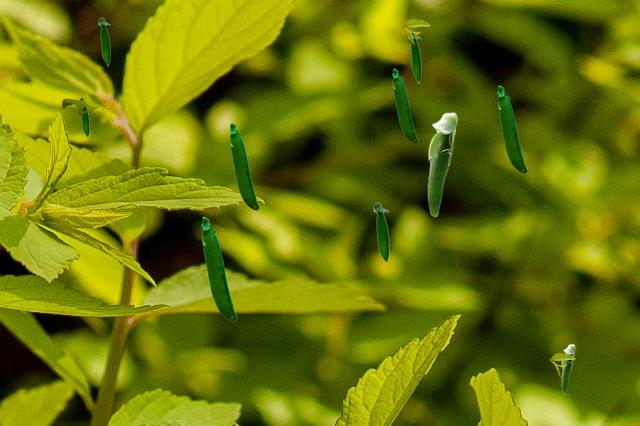pea: (201, 216, 236, 320), (427, 112, 457, 216), (229, 122, 258, 209), (497, 85, 526, 172), (392, 68, 417, 142), (373, 202, 388, 263), (561, 344, 574, 393), (408, 30, 420, 83), (98, 17, 109, 66), (79, 97, 88, 137)
